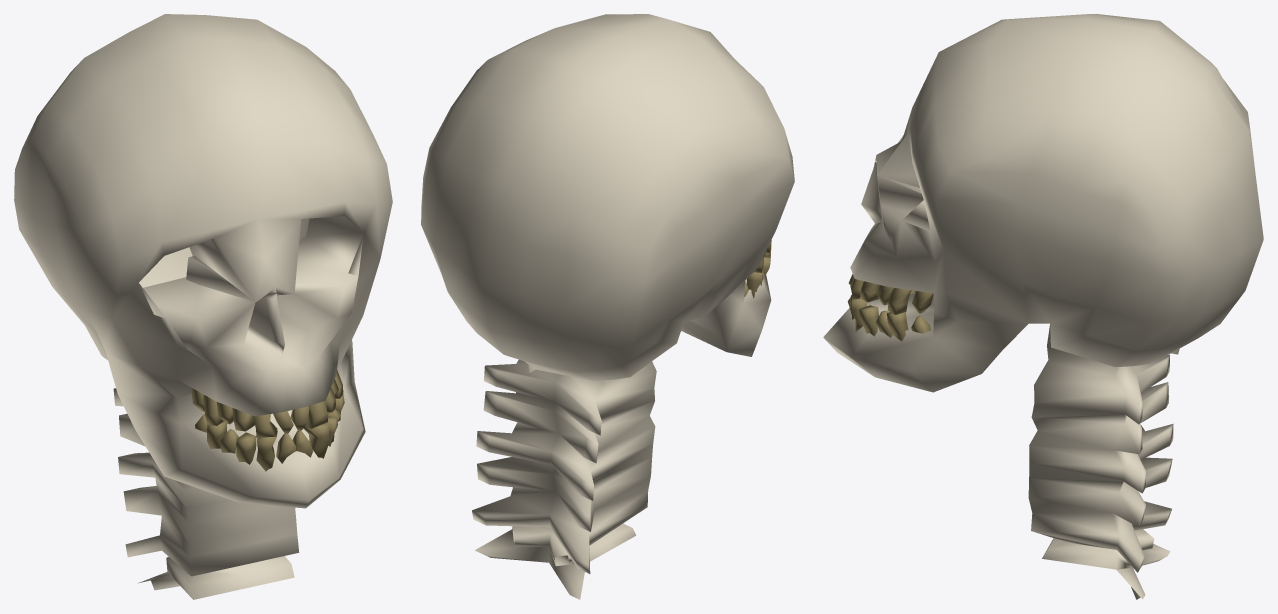
File: cabeza.glb
The picture shows the model from 3 angles, left to right: view 1: azimuth 30°, elevation 25°; view 2: azimuth 150°, elevation 25°; view 3: azimuth 270°, elevation 25°; orthographic projection. The views are drawn at different scales.
Parts seen in each view (by area): view 1: Skeleton_lowPoly; view 2: Skeleton_lowPoly; view 3: Skeleton_lowPoly.
Boxes of the visible parts, x1=… form: Skeleton_lowPoly: x1=14, y1=14, x2=392, y2=599; Skeleton_lowPoly: x1=421, y1=14, x2=794, y2=599; Skeleton_lowPoly: x1=823, y1=14, x2=1263, y2=599.
Bounding box in the file's own units: 0.3373 × 0.5929 × 0.4387.
